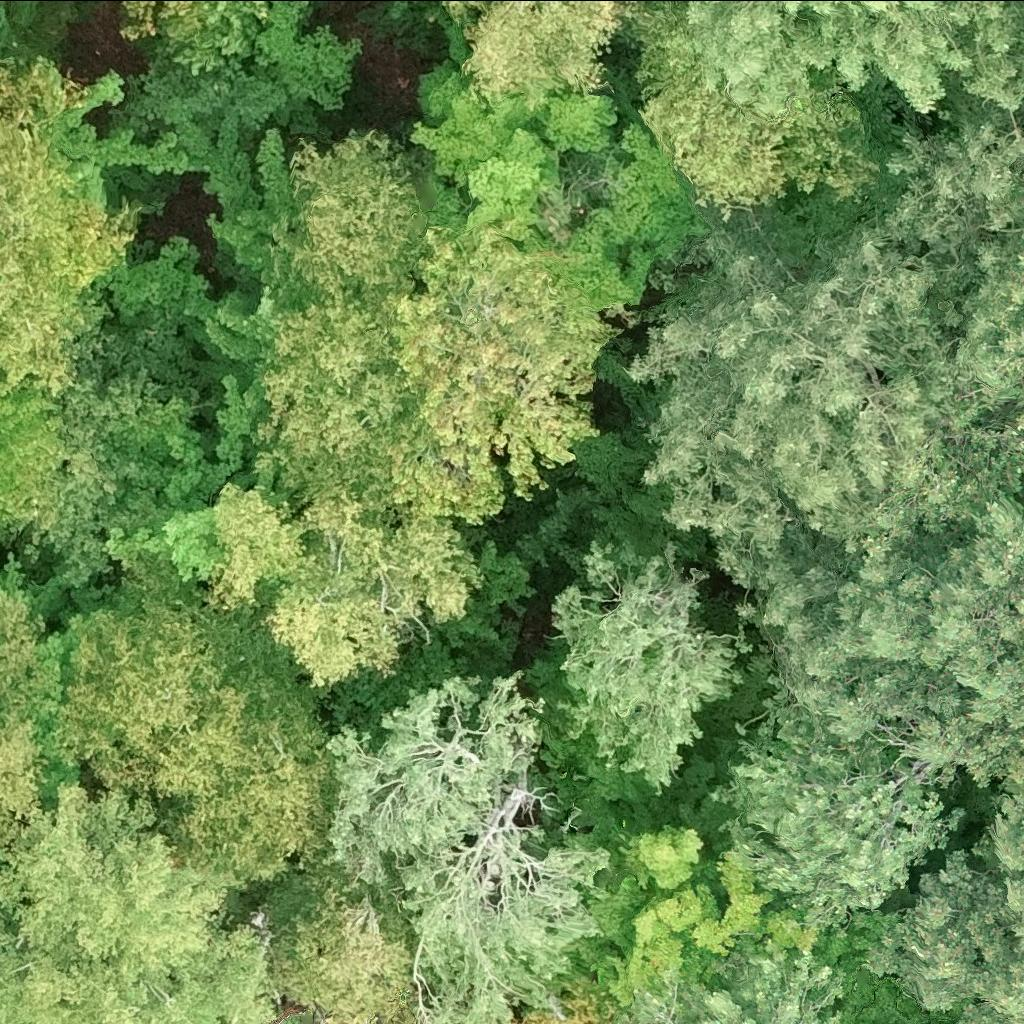crown: (629, 237, 1023, 576), (729, 501, 1023, 902), (322, 671, 606, 1023), (377, 197, 637, 518), (59, 610, 336, 891), (0, 789, 278, 1023), (555, 539, 754, 792), (868, 134, 1023, 441), (259, 490, 481, 688), (616, 828, 814, 1012), (867, 794, 1023, 1023), (0, 62, 137, 293), (252, 297, 414, 487), (685, 0, 963, 108), (275, 128, 419, 331), (408, 70, 612, 210), (252, 861, 418, 1023), (444, 0, 644, 98), (205, 483, 311, 613), (642, 955, 840, 1023), (940, 0, 1023, 145), (0, 259, 87, 393), (0, 372, 68, 537), (0, 723, 41, 856), (0, 596, 35, 704), (0, 912, 34, 1023), (507, 986, 600, 1023)
